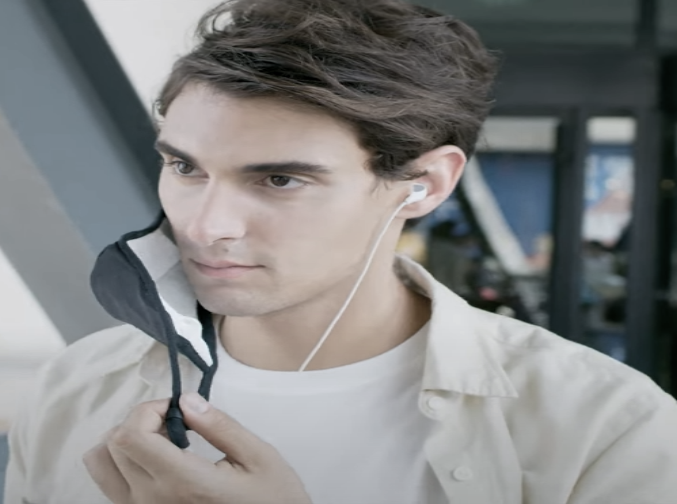mask_weared_incorrect: (86, 2, 485, 377)
